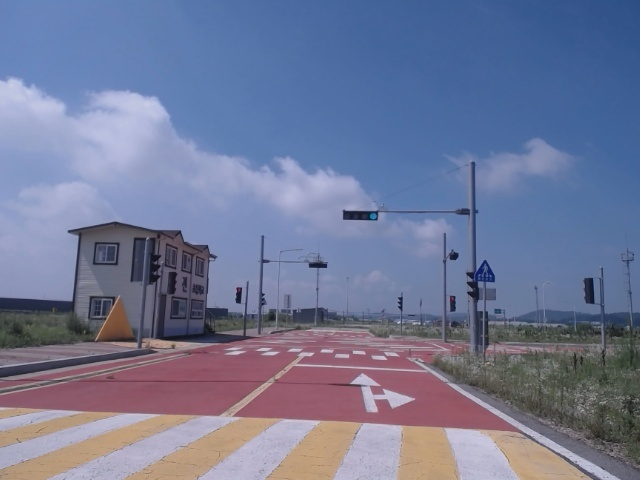straight_green_4: (343, 211, 379, 221)
